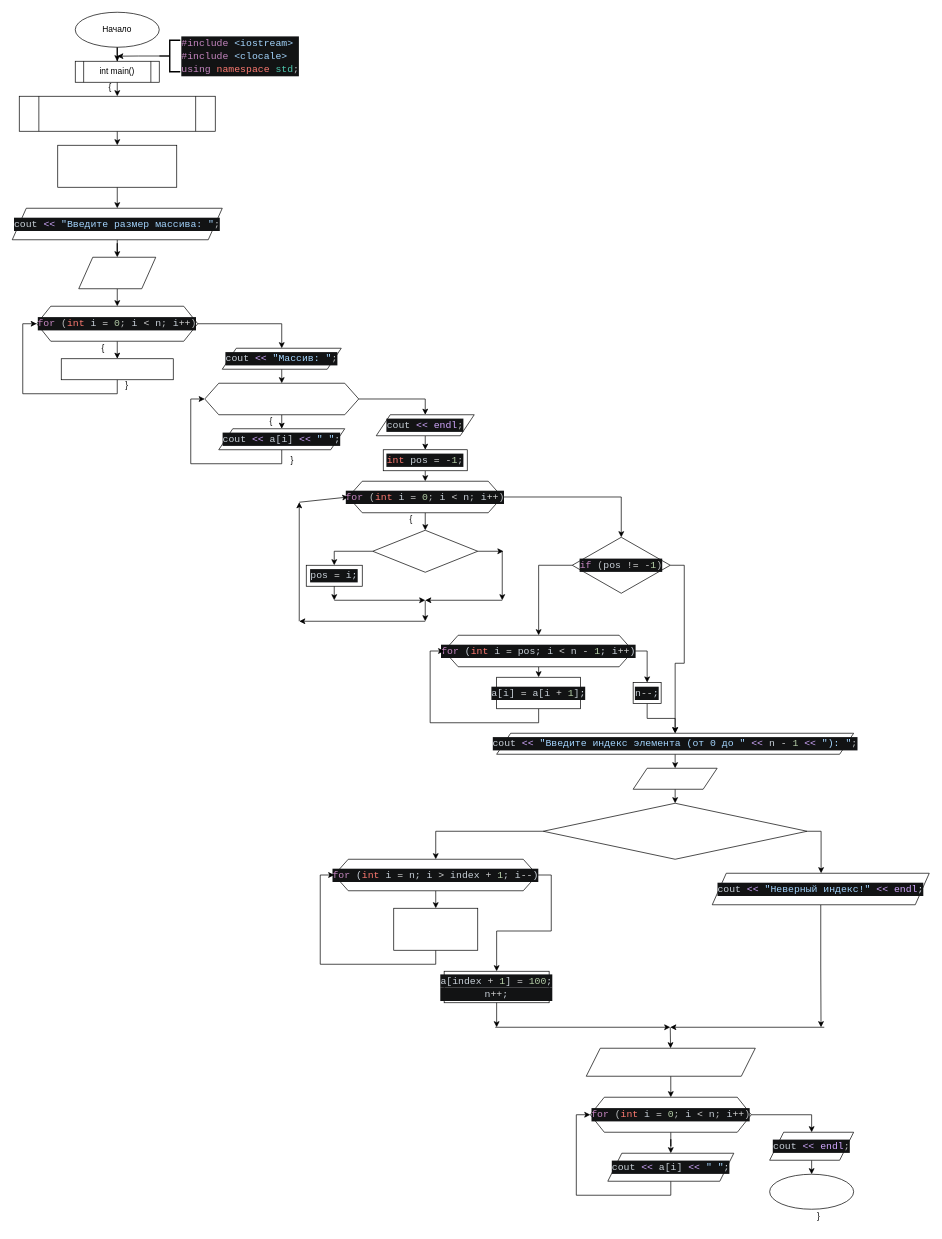
Image size: 942x1239. Some labels were removed from this diagram. The centre of each missing label's shape, as x and y in pixels:
a [ i ] = a [ i - 1 ];: (x=435, y=929)
a [ i ] = rand () % 100 ;: (x=117, y=369)
cin >> index ;: (x=674, y=778)
cin >> n ;: (x=117, y=273)
const int N = 100 ; int a [ N ]; int n , index ;: (x=117, y=166)
cout << "Итоговый массив: " ;: (x=670, y=1062)
for ( int i = 0 ; i < n ; ++ i ): (x=281, y=399)
if ( a [ i ] == 0 ): (x=425, y=551)
if ( index >= 0 && index < n && n < N ): (x=674, y=831)
return 0 ;: (x=811, y=1191)
setlocale ( LC_ALL , ".UTF-8" );: (x=117, y=113)
